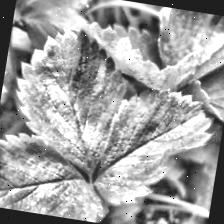Powdery Mildew Leaf: (59, 16, 201, 96)
